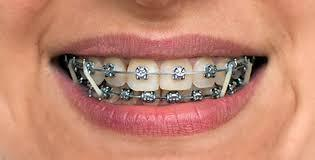Braces: (67, 56, 261, 104)
